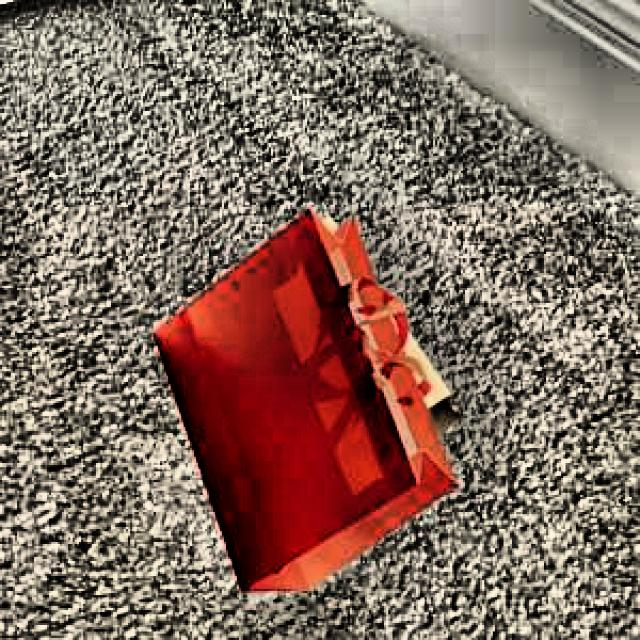Paper-bag: (143, 191, 465, 608)
